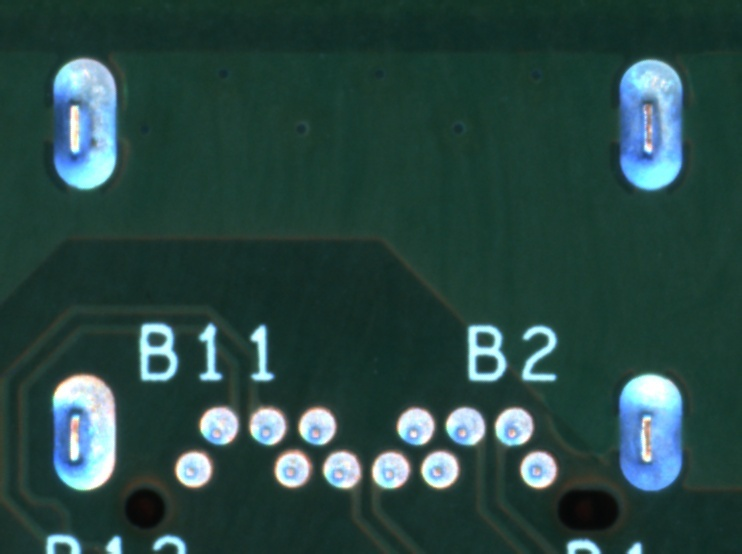SOLDER: (392, 404, 438, 448), (490, 404, 536, 448), (514, 447, 560, 491), (418, 447, 464, 491), (270, 449, 316, 492), (196, 404, 242, 447), (244, 404, 290, 447), (294, 404, 340, 447), (441, 405, 487, 448), (368, 448, 414, 491), (171, 448, 217, 491), (319, 448, 365, 491)
SOLDER2: (43, 47, 128, 204), (42, 351, 127, 507), (607, 47, 691, 204), (607, 354, 691, 511)
